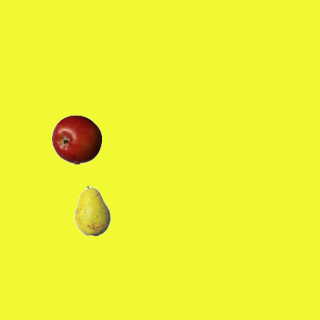Apple Braeburn: (51, 114, 101, 164)
Pear Monster: (67, 185, 117, 235)
